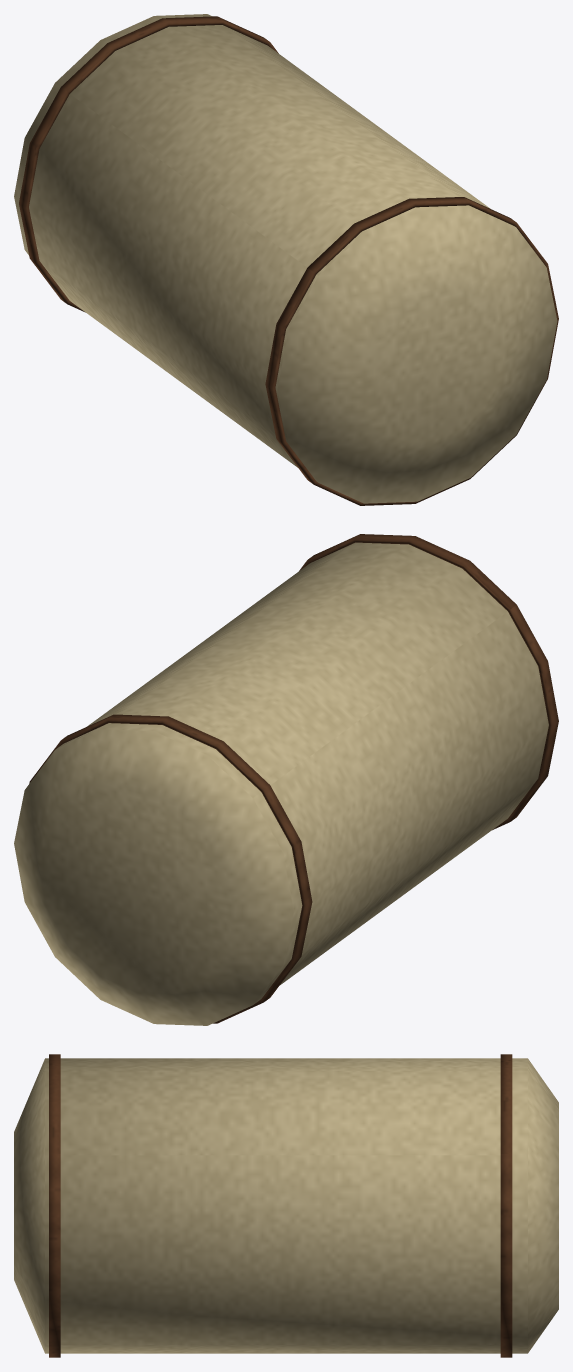
Rendered from charge_fr6.glb.
The picture shows the model from 3 angles, top to bottom: view 1: azimuth 30°, elevation 25°; view 2: azimuth 150°, elevation 25°; view 3: azimuth 270°, elevation 25°; orthographic projection. The views are drawn at different scales.
Visible parts, largest first — view 1: charge_fr6.body; view 2: charge_fr6.body; view 3: charge_fr6.body.
Part boxes in pixels (x1,y1,x2,y2): charge_fr6.body: (14, 14, 558, 505); charge_fr6.body: (14, 534, 558, 1025); charge_fr6.body: (14, 1054, 558, 1357).
Size of the model in its own units: 0.078 by 0.078 by 0.14.
2 materials, 2 textured.
